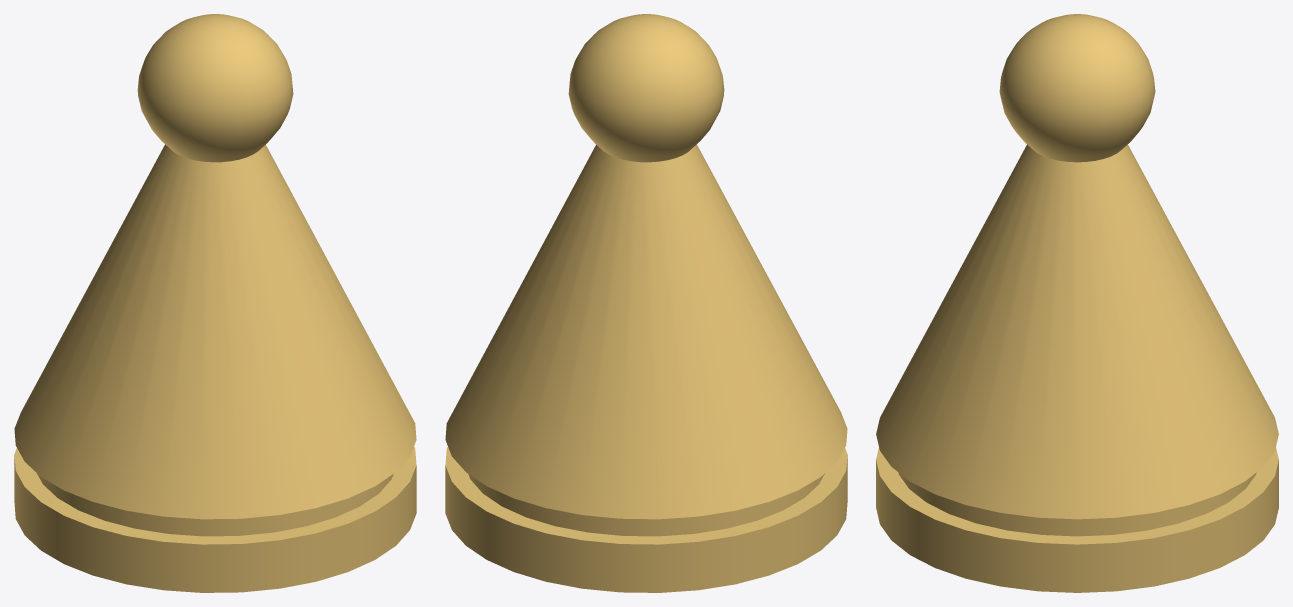
Rendered from Pawn_W.fbx.
The picture shows the model from 3 angles, left to right: view 1: azimuth 30°, elevation 25°; view 2: azimuth 150°, elevation 25°; view 3: azimuth 270°, elevation 25°; orthographic projection.
Parts seen in each view (by area): view 1: Pawn_W; view 2: Pawn_W; view 3: Pawn_W.
Part boxes in pixels (box(x1,y1,x2,y2)): Pawn_W: box(14, 14, 416, 592); Pawn_W: box(445, 14, 847, 592); Pawn_W: box(876, 14, 1278, 592).
Bounding box in the file's own units: 150 × 200 × 150.
